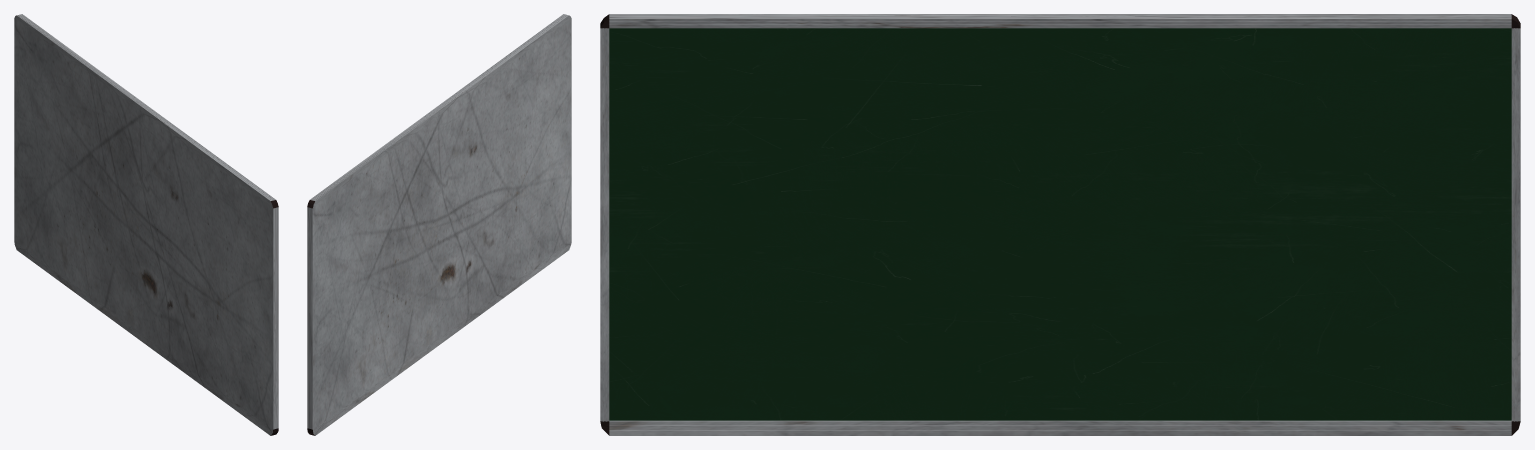
Rendered from Tafel.fbx.
The picture shows the model from 3 angles, left to right: view 1: azimuth 30°, elevation 25°; view 2: azimuth 150°, elevation 25°; view 3: azimuth 270°, elevation 25°; orthographic projection. The views are drawn at different scales.
Visible parts, largest first — view 1: Cube; view 2: Cube; view 3: Cube.
Boxes of the visible parts, bbox=[...] form: Cube: bbox=[14, 14, 278, 435]; Cube: bbox=[307, 14, 571, 435]; Cube: bbox=[600, 14, 1520, 435].
Bounding box in the file's own units: 5.3 × 200 × 400.
